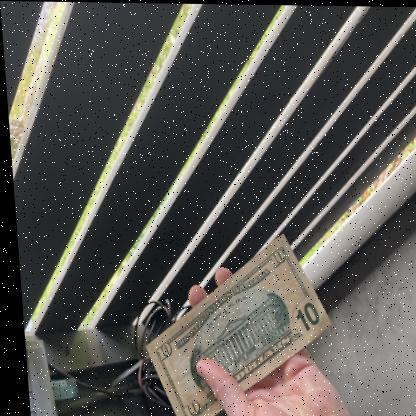ten-back: (139, 230, 329, 416)
